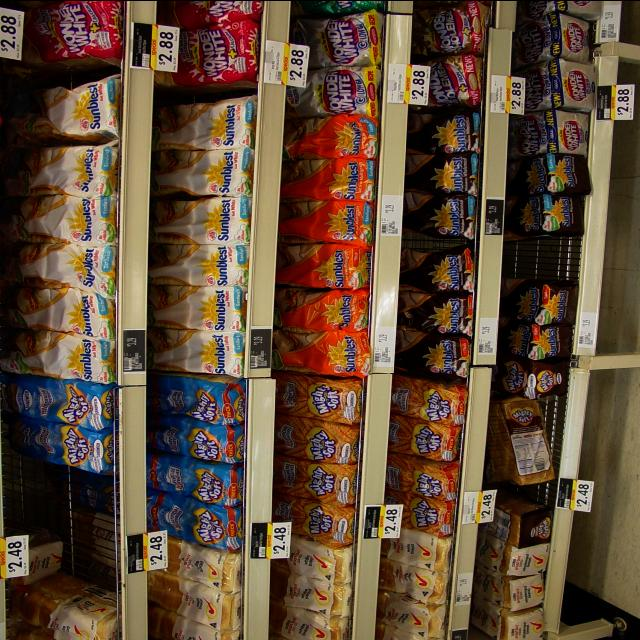empty_space: (39, 479, 107, 576)
